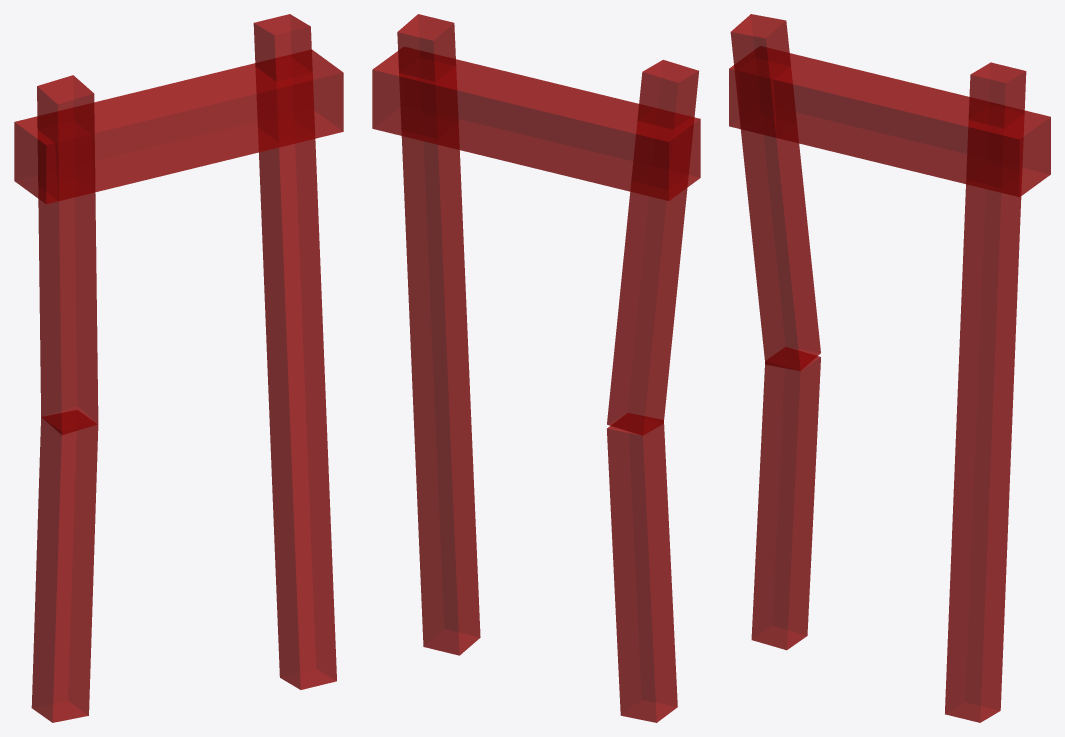
The model's file is SM_Prop_Jetty_Support_02_Collision.fbx.
3 views of the same model, side by side, from view 1: azimuth 30°, elevation 25°; view 2: azimuth 150°, elevation 25°; view 3: azimuth 330°, elevation 25° (orthographic). The views are drawn at different scales.
Parts seen in each view (by area): view 1: SM_Prop_Jetty_Support_02_Collision; view 2: SM_Prop_Jetty_Support_02_Collision; view 3: SM_Prop_Jetty_Support_02_Collision.
Part boxes in pixels (box(x1,y1,x2,y2)): SM_Prop_Jetty_Support_02_Collision: box(14, 14, 343, 722); SM_Prop_Jetty_Support_02_Collision: box(372, 14, 700, 722); SM_Prop_Jetty_Support_02_Collision: box(729, 14, 1050, 722).
Size of the model in its own units: 125 by 258 by 35.57.
